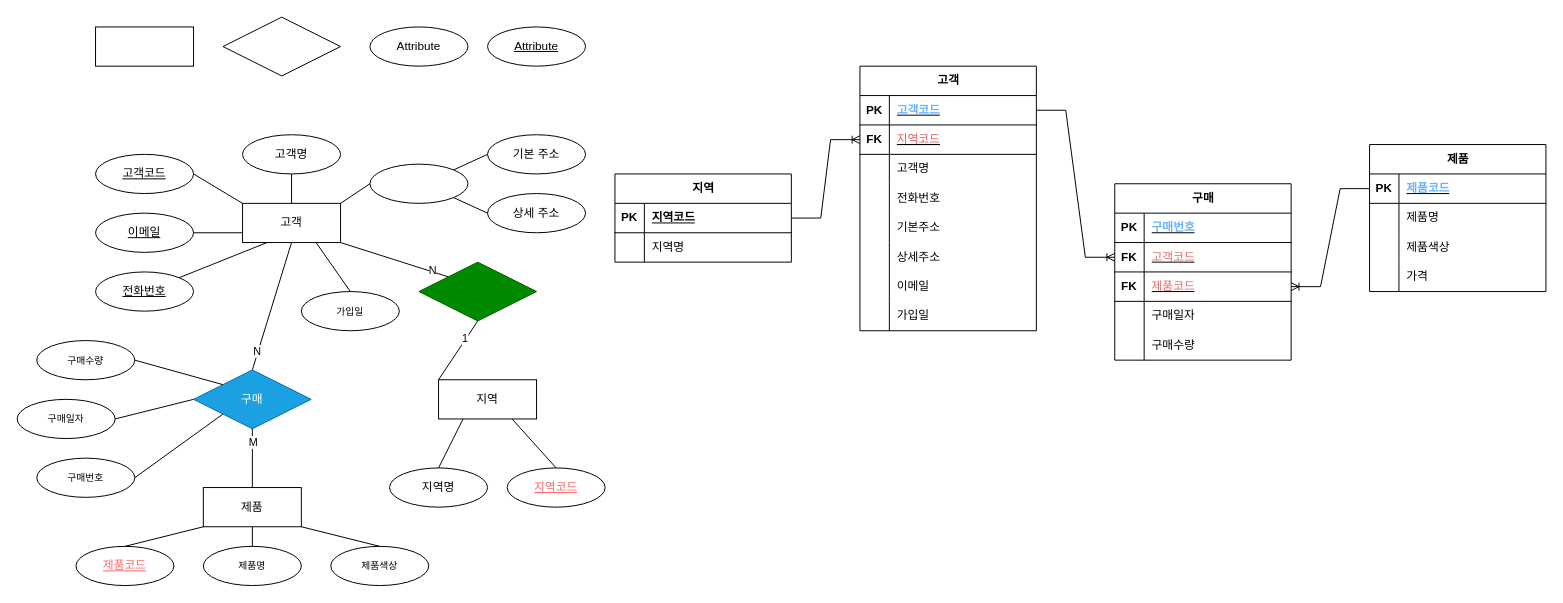
Image size: 1563x603. Some labels were removed from this diagram. Each missing label, with the centre of its shape:
"Entity" goes at [144,46].
"Relationship" goes at [281,46].
"관리" goes at [477,291].
"주소" goes at [418,183].
